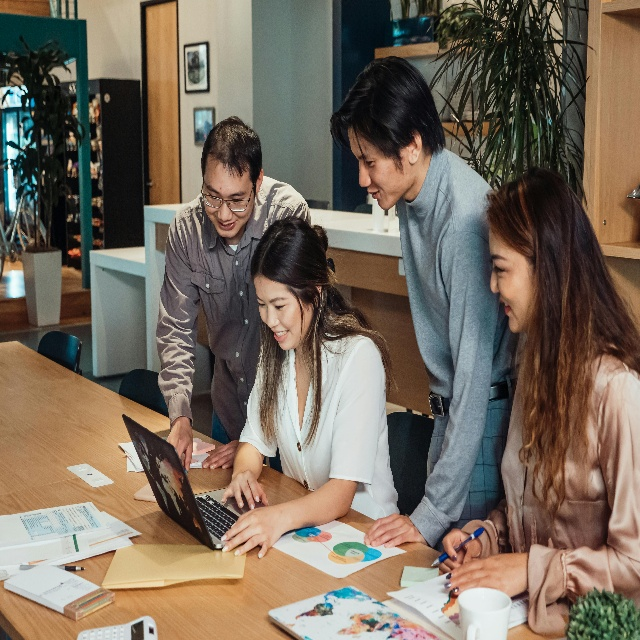Gafas: (200, 178, 257, 212)
Sin_guantes: (444, 550, 527, 597), (221, 503, 281, 558), (363, 513, 427, 549), (438, 526, 480, 576), (221, 468, 269, 510), (166, 416, 193, 472), (202, 439, 240, 470)
